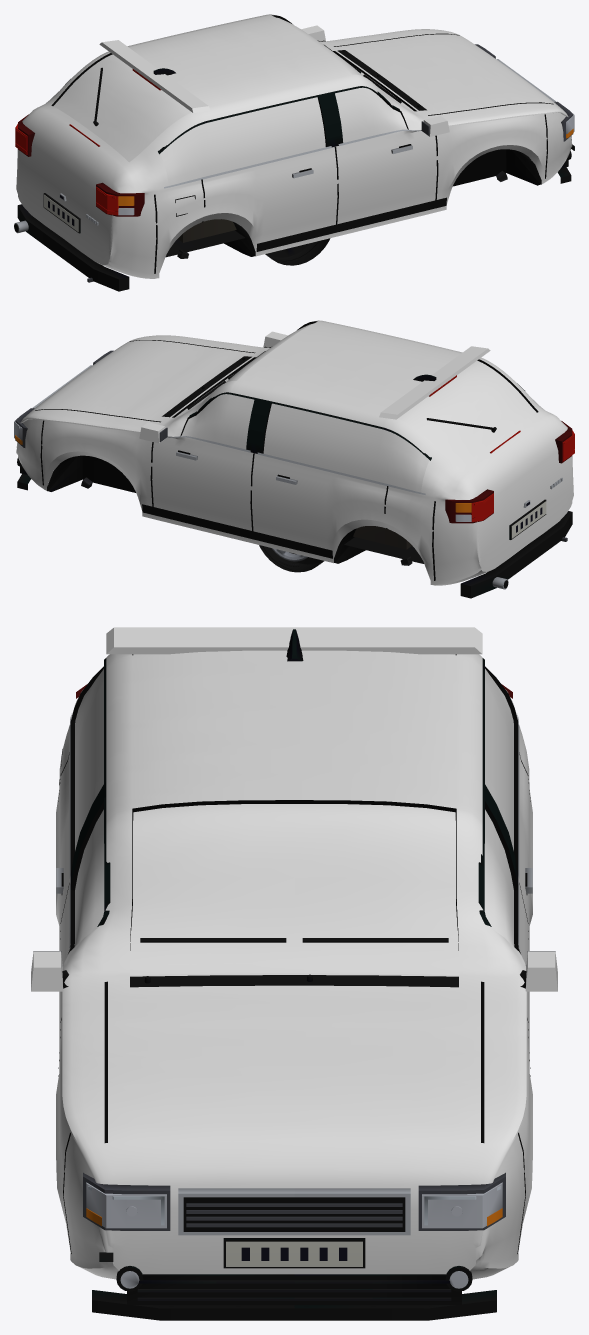
Rendered from hatch-hi.glb.
3 renders of one model, top to bottom at view 1: azimuth 30°, elevation 25°; view 2: azimuth 150°, elevation 25°; view 3: azimuth 270°, elevation 25°, orthographic. The views are drawn at different scales.
Parts seen in each view (by area): view 1: paint, glass, detail, wheel; view 2: paint, glass, detail, wheel; view 3: paint, glass, detail.
Boxes of the visible parts, <box> form: paint: <box>16,14,572,278</box>; glass: <box>53,17,413,185</box>; detail: <box>14,15,574,291</box>; wheel: <box>265,238,330,265</box>; paint: <box>16,320,573,585</box>; glass: <box>175,324,536,492</box>; detail: <box>14,321,574,598</box>; wheel: <box>259,545,324,572</box>; paint: <box>31,627,557,1279</box>; glass: <box>74,654,514,974</box>; detail: <box>33,629,555,1320</box>.
Size of the model in its own units: 1.35 by 0.6084 by 0.6435.
